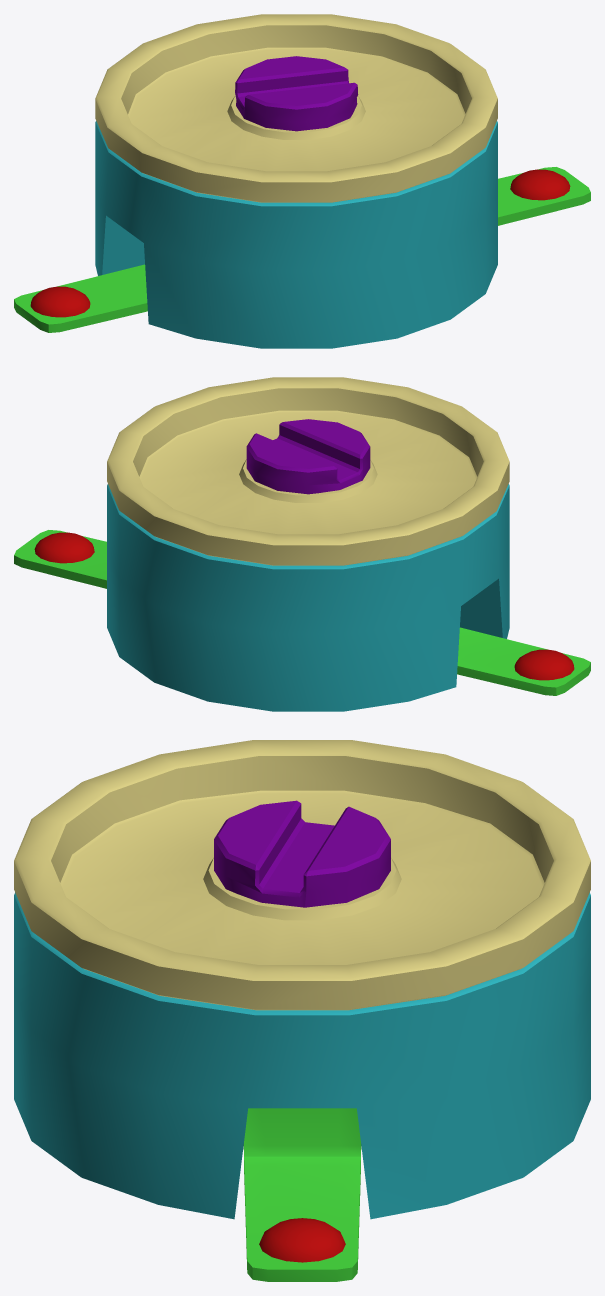
The model's file is elements025.fbx.
3 views of the same model, one above another, from view 1: azimuth 30°, elevation 25°; view 2: azimuth 150°, elevation 25°; view 3: azimuth 270°, elevation 25° (orthographic). The views are drawn at different scales.
Parts seen in each view (by area): view 1: element025_LOD0; view 2: element025_LOD0; view 3: element025_LOD0.
Boxes of the visible parts, x1,y1,x2,y2 form: element025_LOD0: (14, 14, 590, 348); element025_LOD0: (14, 377, 590, 711); element025_LOD0: (14, 740, 590, 1281).
Size of what is drawn, in the model's own units: 2.1 by 0.6723 by 1.33.
